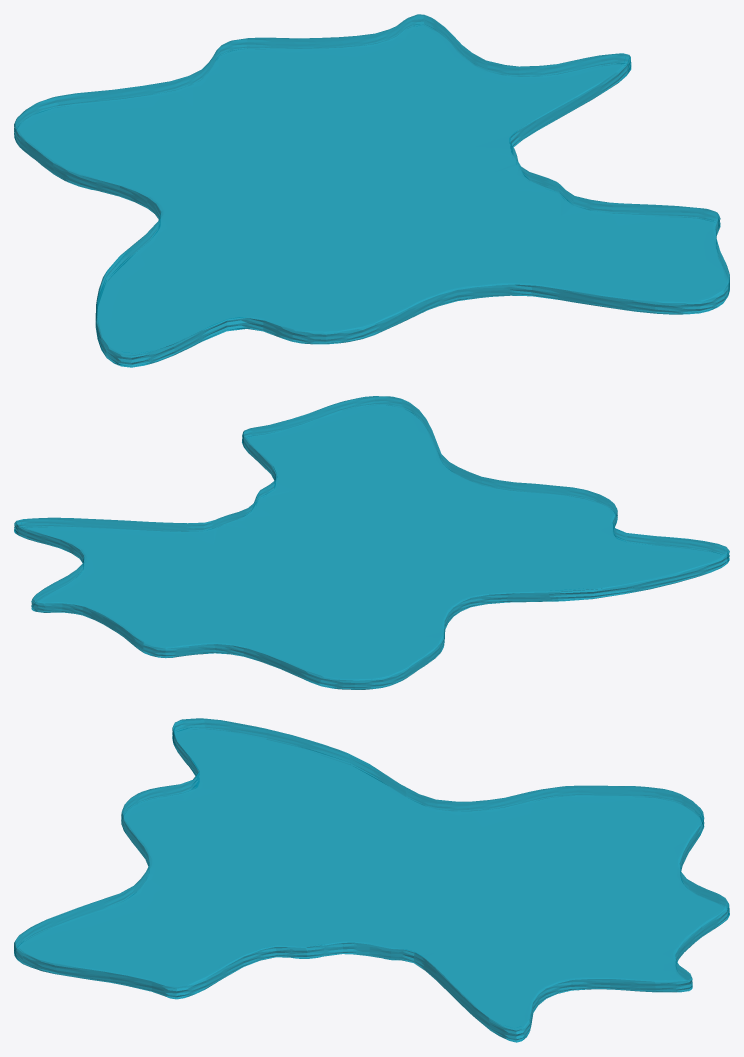
File: Puddle_01.fbx
3 views of the same model, one above another, from view 1: azimuth 30°, elevation 25°; view 2: azimuth 150°, elevation 25°; view 3: azimuth 270°, elevation 25° (orthographic). The views are drawn at different scales.
Visible parts, largest first — view 1: Puddle; view 2: Puddle; view 3: Puddle.
Boxes of the visible parts, x1,y1,x2,y2 form: Puddle: [14, 14, 729, 367]; Puddle: [14, 396, 729, 689]; Puddle: [14, 718, 729, 1042].
Bounding box in the file's own units: 57.22 × 0.9994 × 55.13.
